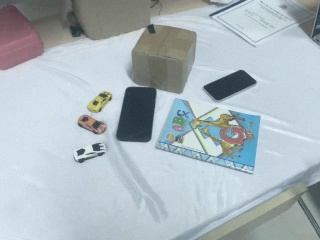book: (151, 96, 264, 175)
box: (131, 24, 196, 93), (66, 1, 152, 42)
phone: (115, 86, 157, 143), (202, 69, 258, 101)
toy_car: (73, 142, 108, 162), (77, 114, 107, 135), (87, 91, 113, 113)
